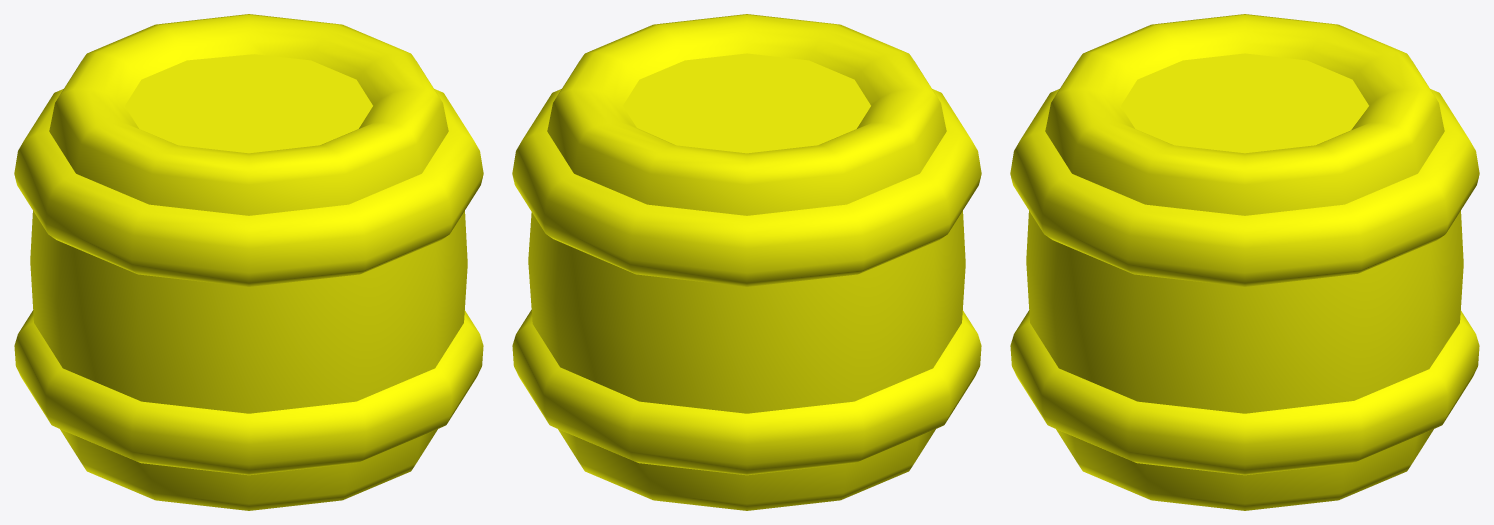
File: barrel.glb
The picture shows the model from 3 angles, left to right: view 1: azimuth 30°, elevation 25°; view 2: azimuth 150°, elevation 25°; view 3: azimuth 270°, elevation 25°; orthographic projection.
Parts seen in each view (by area): view 1: tavern_barrel_LOD0; view 2: tavern_barrel_LOD0; view 3: tavern_barrel_LOD0.
Part boxes in pixels (x1,y1,x2,y2): tavern_barrel_LOD0: (14,14,483,510); tavern_barrel_LOD0: (512,14,981,510); tavern_barrel_LOD0: (1010,14,1479,510).
Size of what is drawn, in the model's own units: 1.22 by 0.9957 by 1.22.
1 material, 1 textured.
